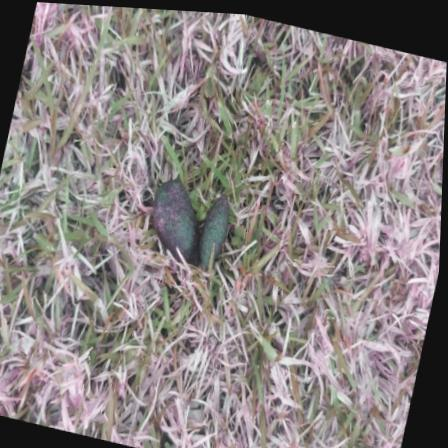dog-poop: (129, 171, 237, 285)
